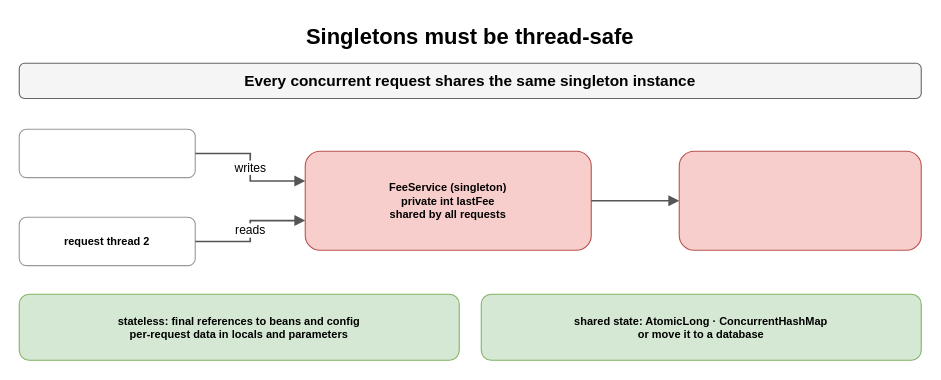
Some shapes in this 941 by 380 pixel diagram are drawn without their labels. The box of each missing label's shape, as (x1, y1, x2, y2) in pixels:
may return another request's value: (678, 150, 921, 250)
request thread 1: (18, 128, 195, 178)
